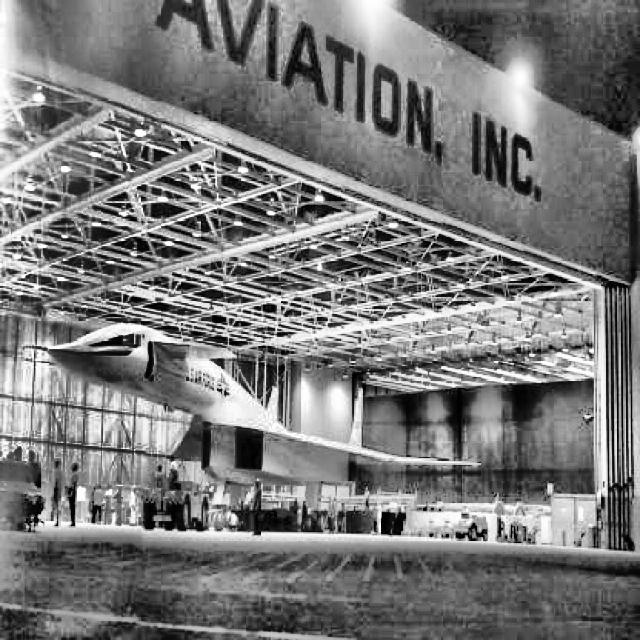XB70: (22, 322, 480, 533)
